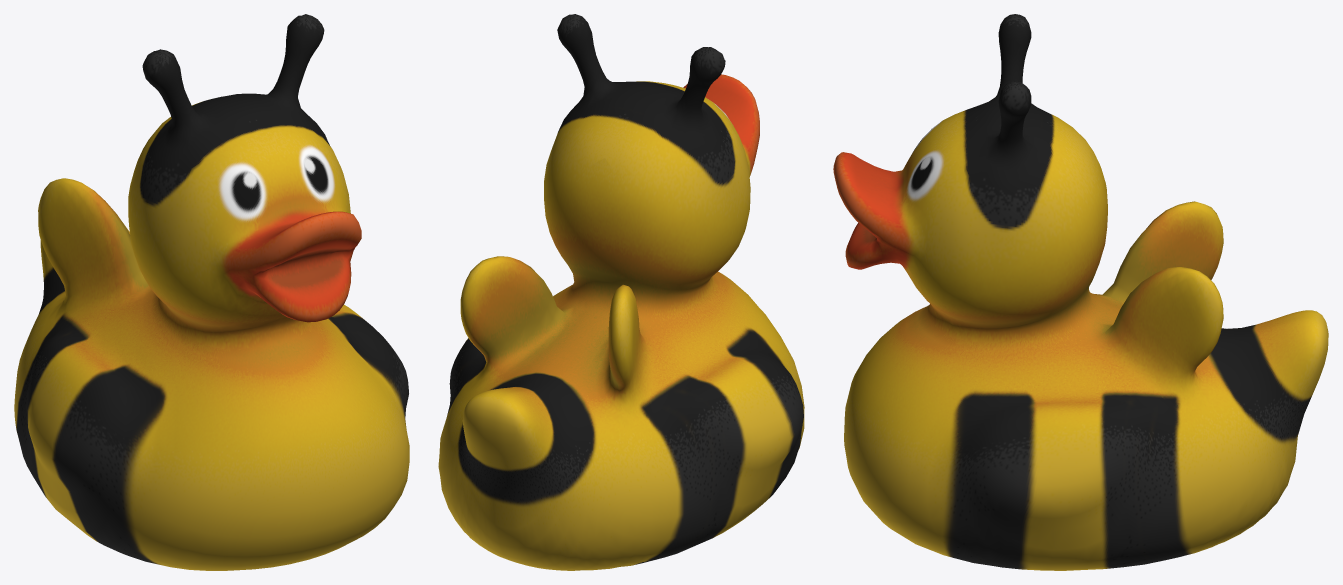
The model's file is bee_rubber_duck.glb.
The picture shows the model from 3 angles, left to right: view 1: azimuth 30°, elevation 25°; view 2: azimuth 150°, elevation 25°; view 3: azimuth 270°, elevation 25°; orthographic projection. The views are drawn at different scales.
Visible parts, largest first — view 1: Cylinder017; view 2: Cylinder017; view 3: Cylinder017.
Part boxes in pixels (box(x1,y1,x2,y2)): Cylinder017: box(14, 14, 409, 570); Cylinder017: box(438, 14, 804, 570); Cylinder017: box(833, 14, 1328, 570).
Bounding box in the file's own units: 0.3322 × 0.4595 × 0.4338.
Materials: 1 (1 with a texture image).
